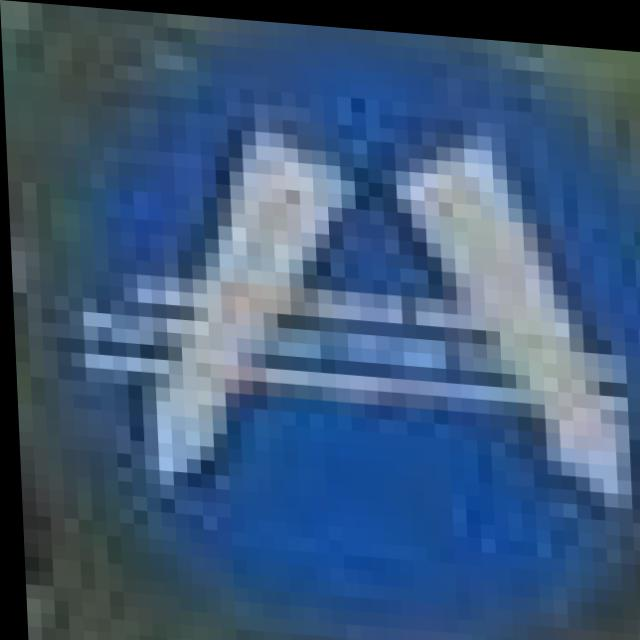PASS_EITHER_SIDE: (14, 1, 640, 640)
